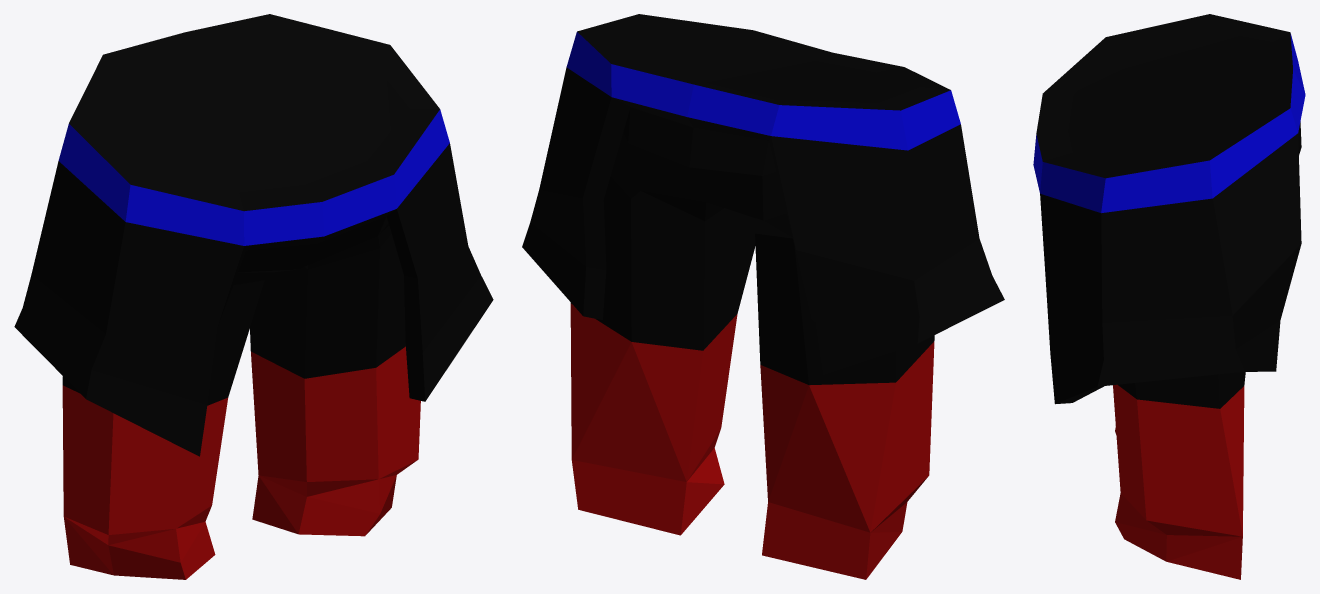
Rendered from Chr_Hips_Male_Static_24.fbx.
The picture shows the model from 3 angles, left to right: view 1: azimuth 30°, elevation 25°; view 2: azimuth 150°, elevation 25°; view 3: azimuth 270°, elevation 25°; orthographic projection. The views are drawn at different scales.
Visible parts, largest first — view 1: Chr_Hips_Male_24; view 2: Chr_Hips_Male_24; view 3: Chr_Hips_Male_24.
Boxes of the visible parts, box(x1,y1,x2,y2) form: Chr_Hips_Male_24: box(14, 14, 493, 579); Chr_Hips_Male_24: box(522, 14, 1004, 579); Chr_Hips_Male_24: box(1033, 14, 1305, 579).
Size of the model in its own units: 49.84 by 55.75 by 30.86.
